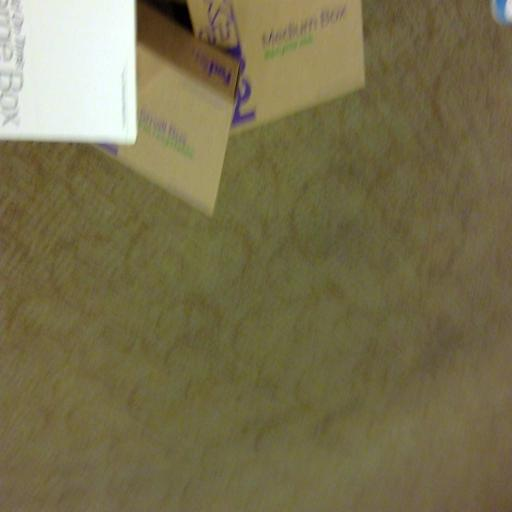Amazon: (100, 21, 239, 213), (182, 0, 377, 128), (0, 0, 146, 141)
